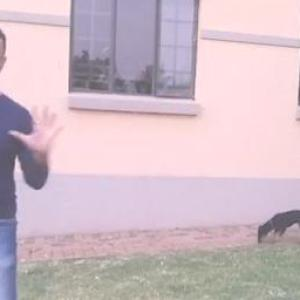follow_hand: (6, 101, 68, 157)
